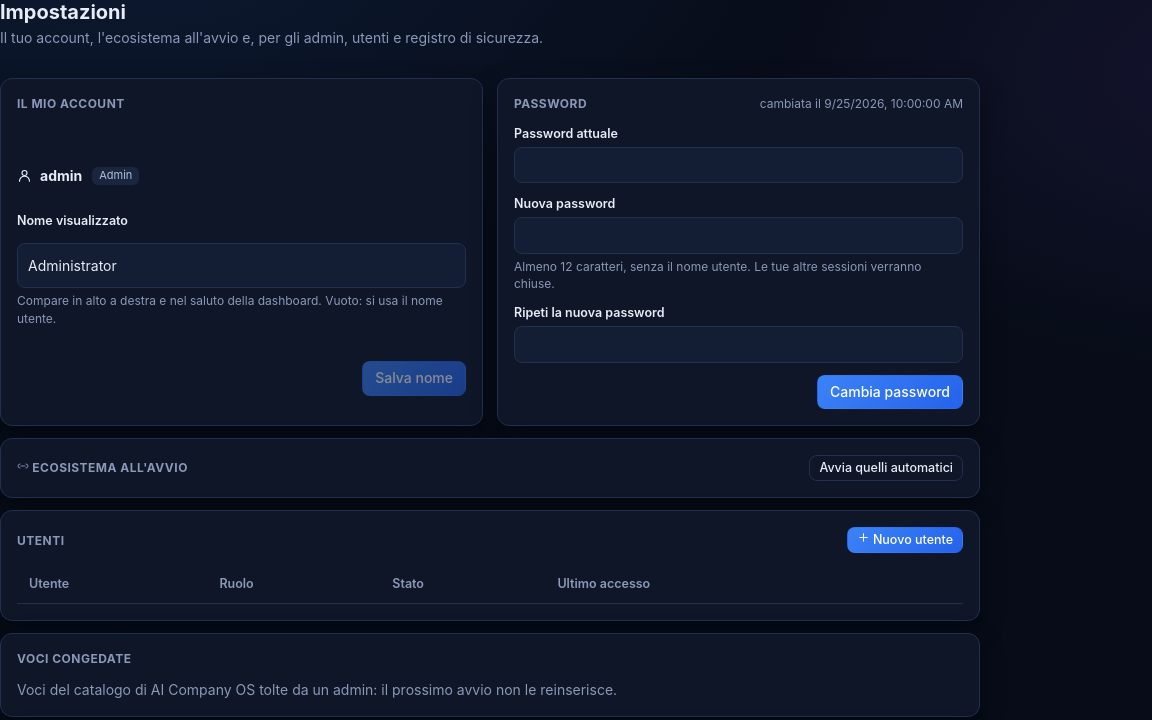
Test: my account (ADR-024) › changes the password and refreshes who is signed in
The image size is (1152, 720).
Type "the-old-secret-1" into the password field labelled "Password attuale" at [738, 165], box top-left (514, 147), bottom-right (963, 183)
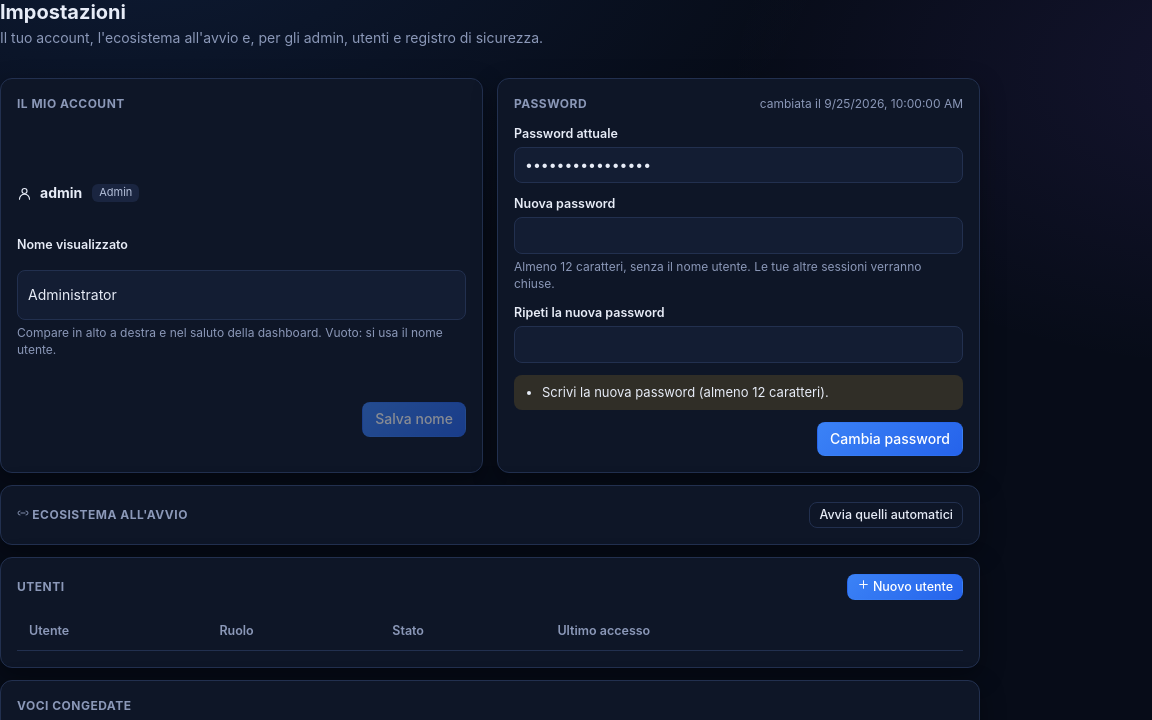
Type "a-new-long-secret" into the password field labelled "Nuova password" at [738, 235], box top-left (514, 217), bottom-right (963, 254)
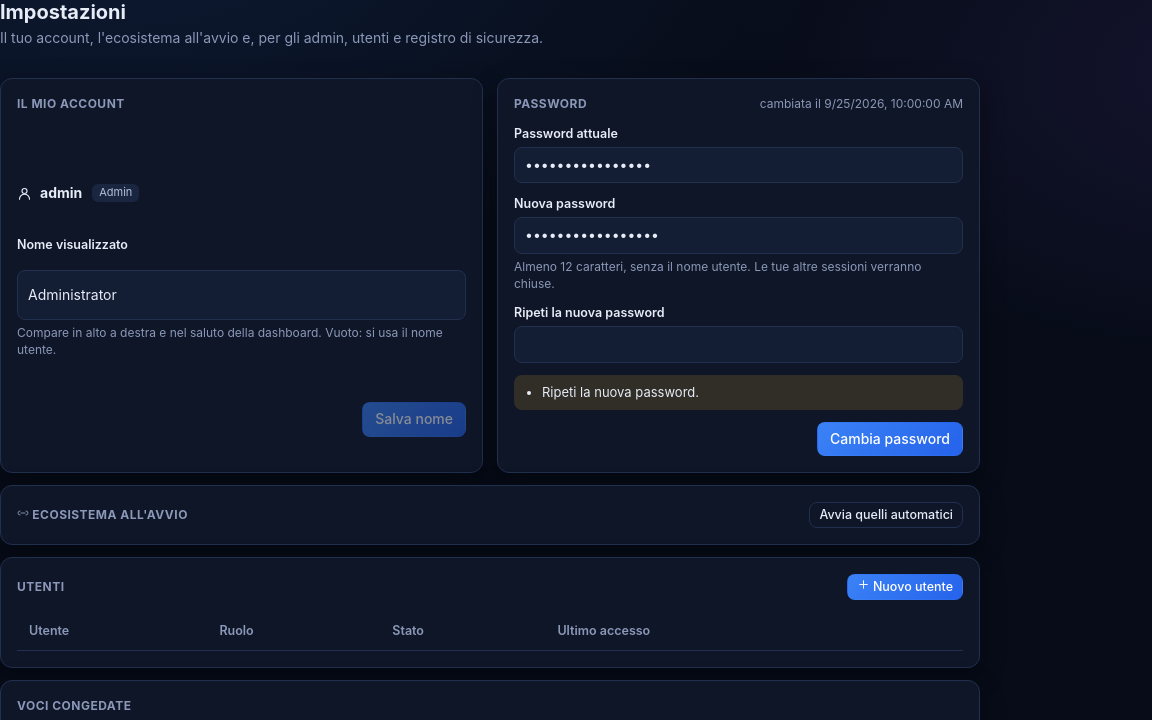
Type "a-new-long-secret" into the password field labelled "Ripeti la nuova password" at [738, 345], box top-left (514, 326), bottom-right (963, 363)
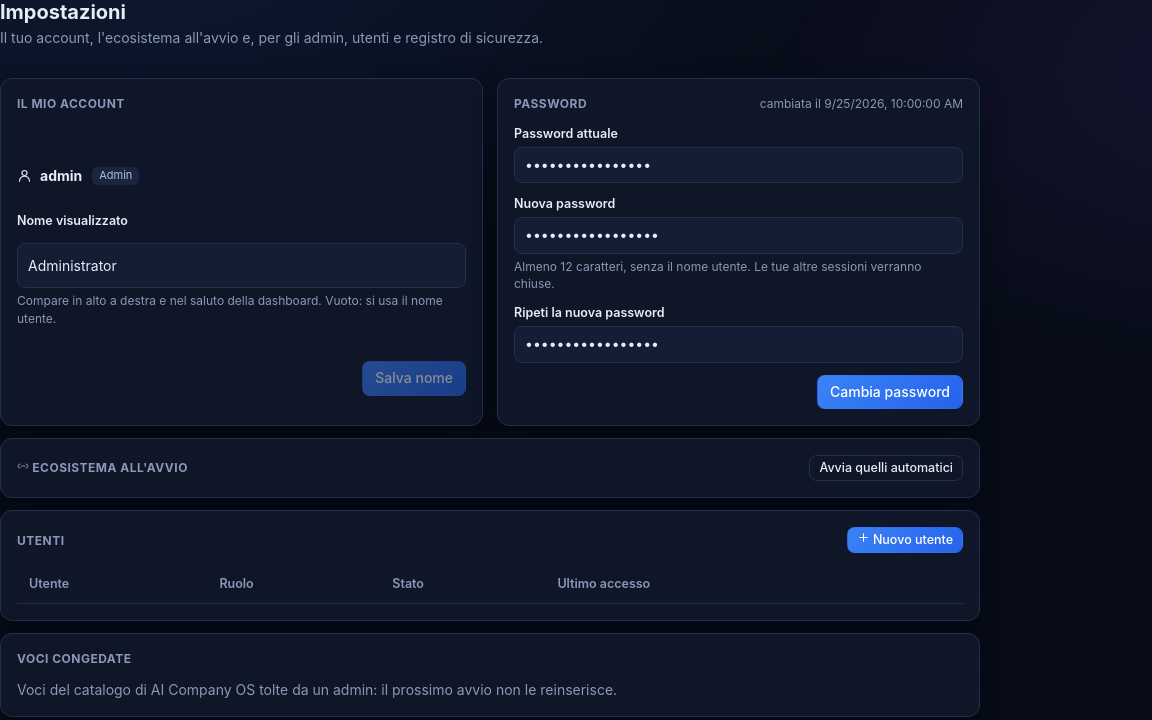
Click the button "Cambia password" at [890, 392], box top-left (817, 375), bottom-right (963, 409)
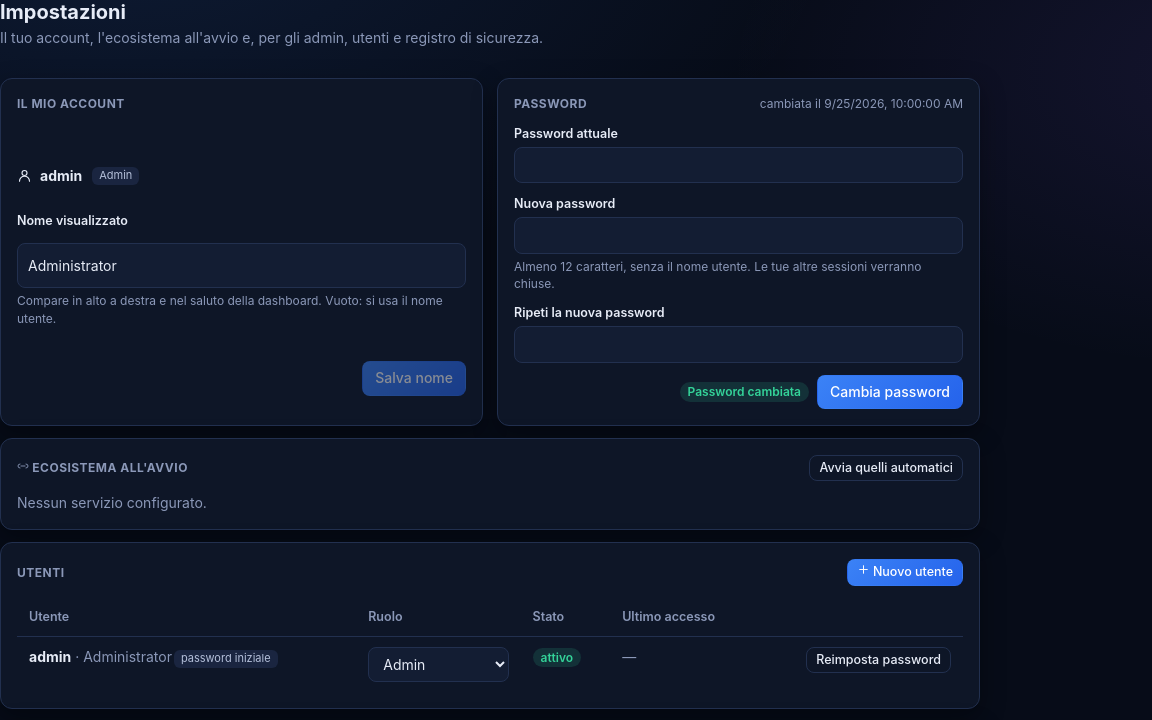
Check: the text "Password cambiata" is shown, box top-left (680, 382), bottom-right (809, 402)
